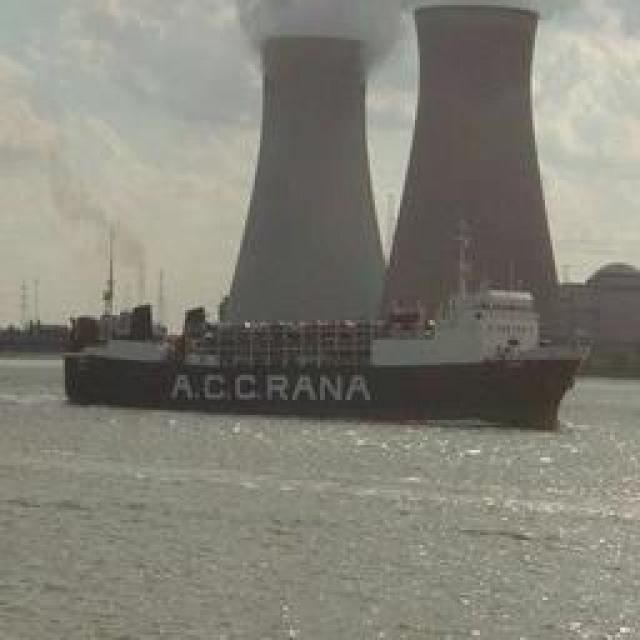CIV_Ship: (60, 304, 588, 422)
